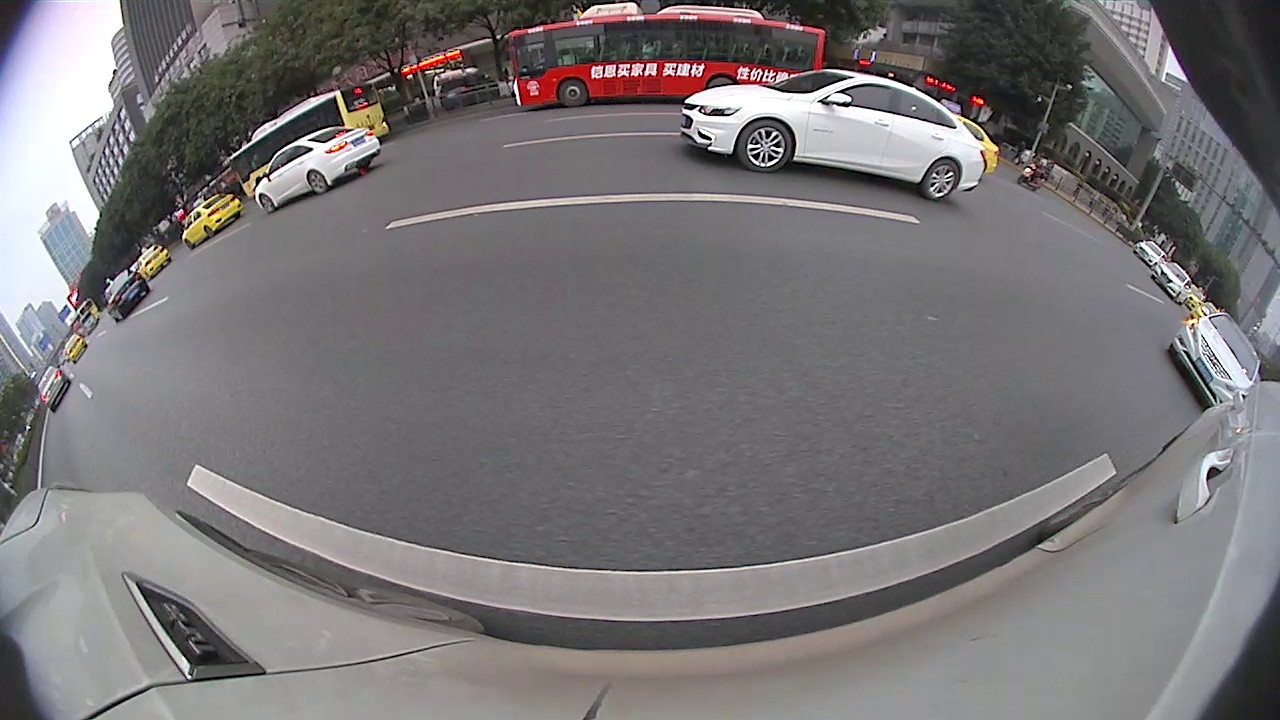bus: (509, 3, 826, 108), (228, 79, 391, 197)
car: (680, 68, 988, 201), (255, 125, 382, 215), (1167, 311, 1263, 410), (180, 194, 242, 250), (104, 268, 151, 324), (1149, 261, 1192, 307), (36, 365, 72, 413), (1132, 240, 1169, 269)
front: (737, 120, 793, 172), (558, 82, 588, 106), (259, 195, 275, 212)
rear: (925, 162, 958, 199), (307, 171, 327, 193)
rider: (1017, 160, 1049, 195)
